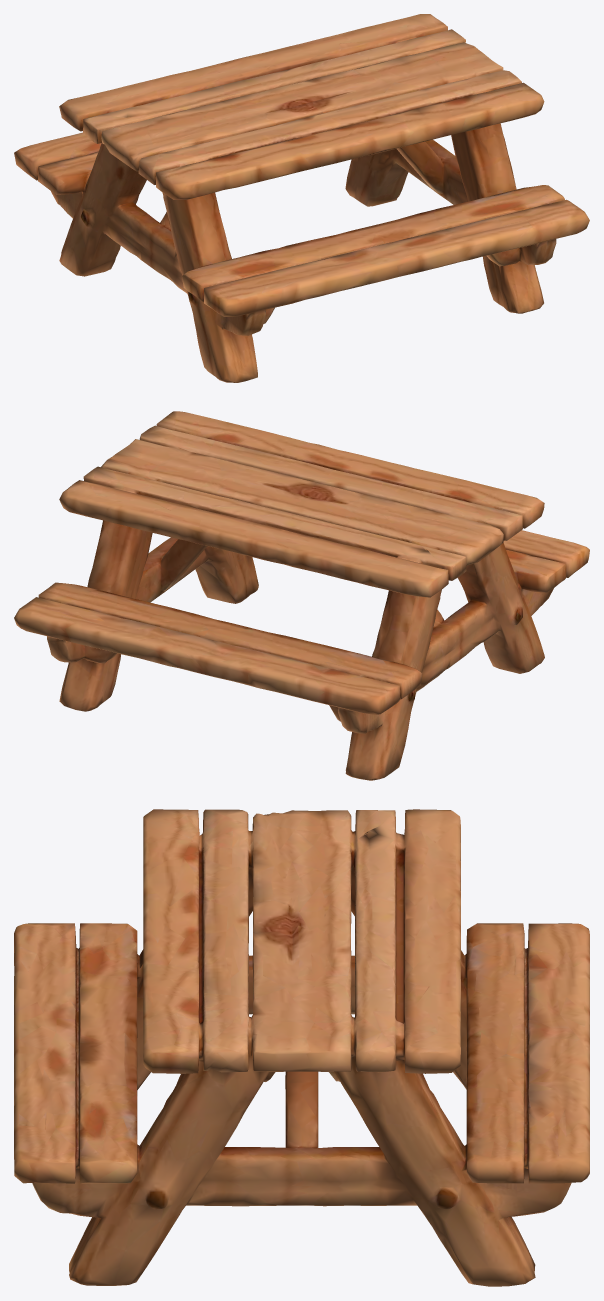
The model's file is bench1.glb.
3 views of the same model, one above another, from view 1: azimuth 30°, elevation 25°; view 2: azimuth 150°, elevation 25°; view 3: azimuth 270°, elevation 25° (orthographic). The views are drawn at different scales.
Size of the model in its own units: 1.91 by 0.9185 by 1.91.
Materials: 1 (1 with a texture image).
